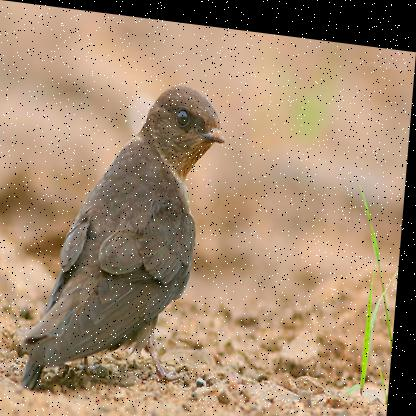Burung: (25, 66, 230, 405)
